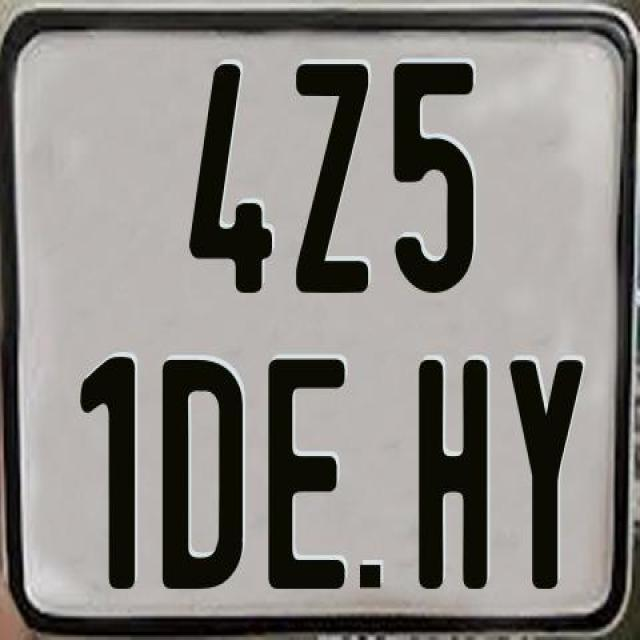1: (76, 354, 134, 590)
4: (188, 59, 276, 288)
5: (389, 61, 474, 292)
D: (163, 357, 249, 596)
E: (268, 358, 350, 597)
H: (418, 356, 486, 590)
Y: (506, 355, 584, 587)
Z: (294, 61, 372, 290)
